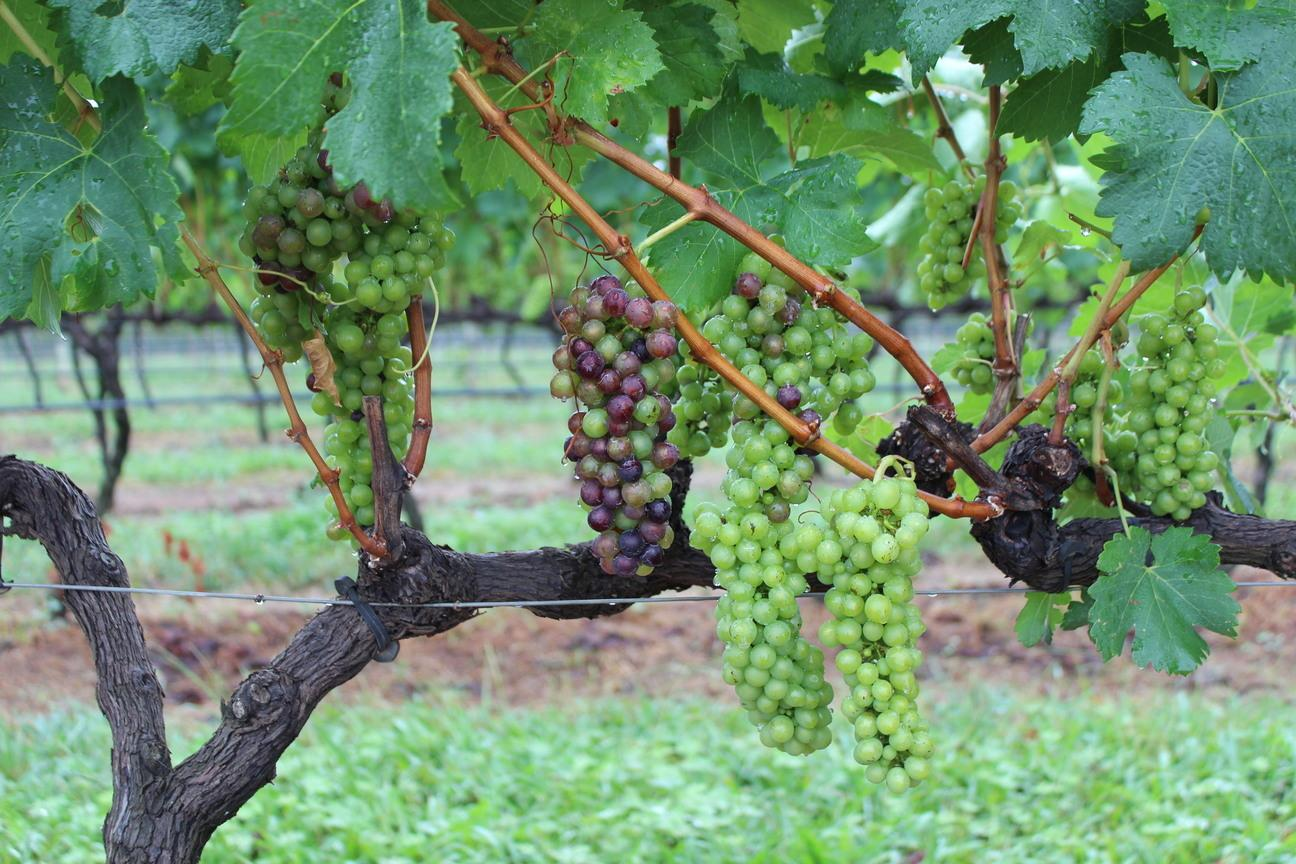leaf: (1080, 40, 1295, 279), (218, 0, 455, 207), (0, 55, 181, 325), (324, 0, 458, 210), (1089, 526, 1239, 673), (517, 0, 665, 124), (903, 0, 1117, 79), (47, 0, 238, 81), (629, 1, 727, 105), (1161, 0, 1295, 70), (823, 0, 901, 75), (737, 0, 815, 52)
